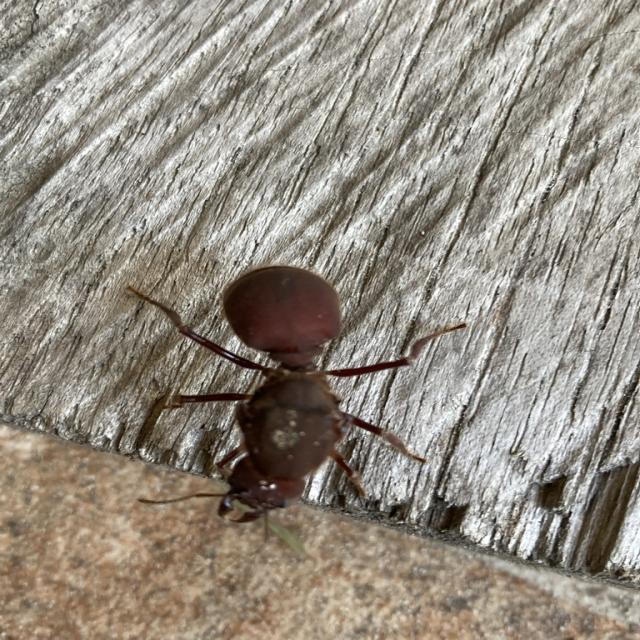Alive-Female-Dealate: (124, 265, 468, 544)
